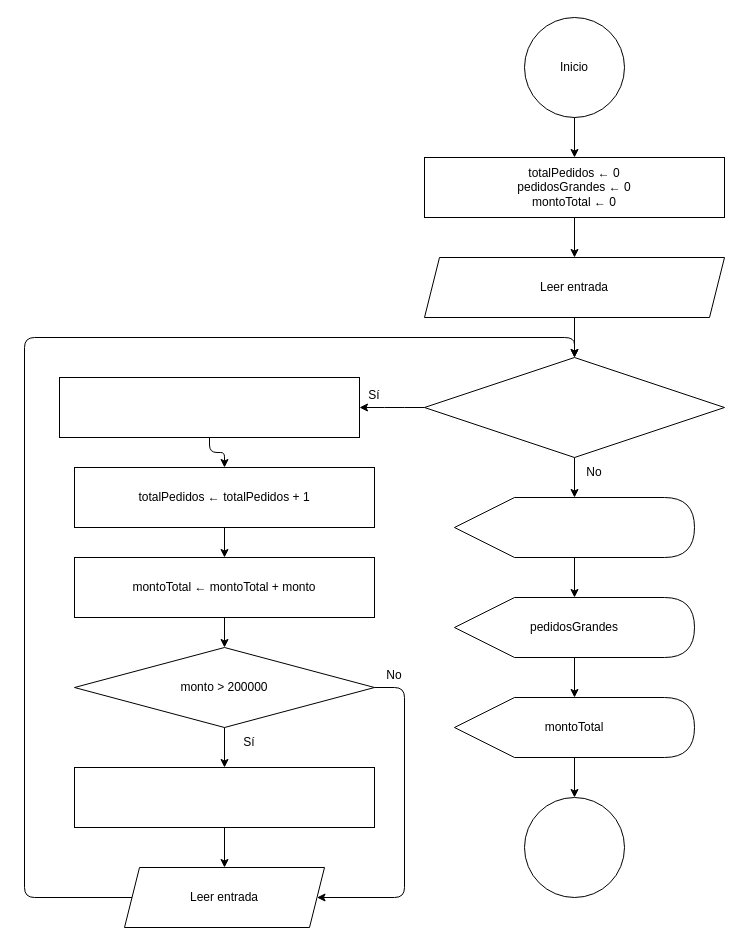
Image size: 742x945. Some labels were removed from this diagram. Each missing label, with the centre of its shape:
"entrada ≠ FIN" belongs at (574,407).
"Fin" belongs at (574,847).
"monto ← ConvertirANumero(entrada)" belongs at (209,407).
"pedidosGrandes ← pedidosGrandes + 1" belongs at (224,797).
"totalPedidos" belongs at (574,527).
